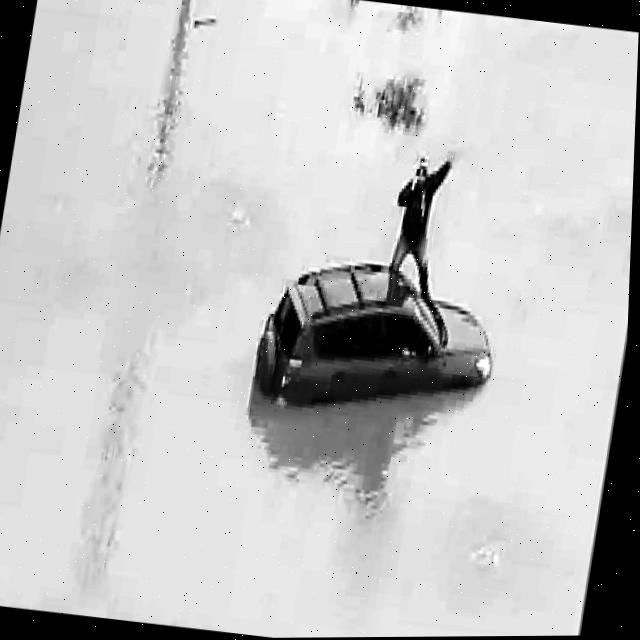civilian: (382, 152, 462, 289)
